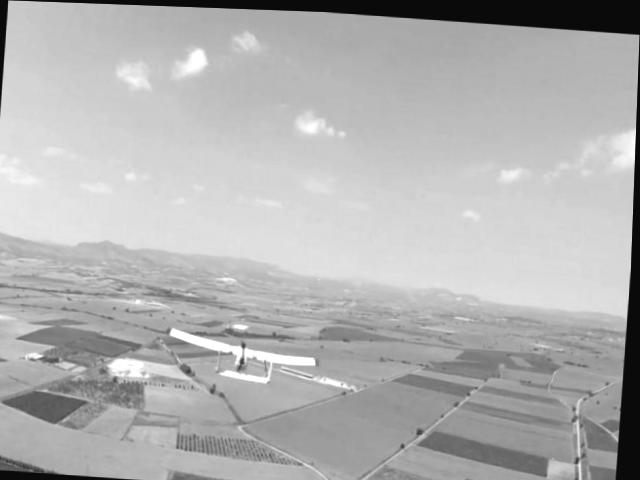hedef: (156, 313, 333, 399)
